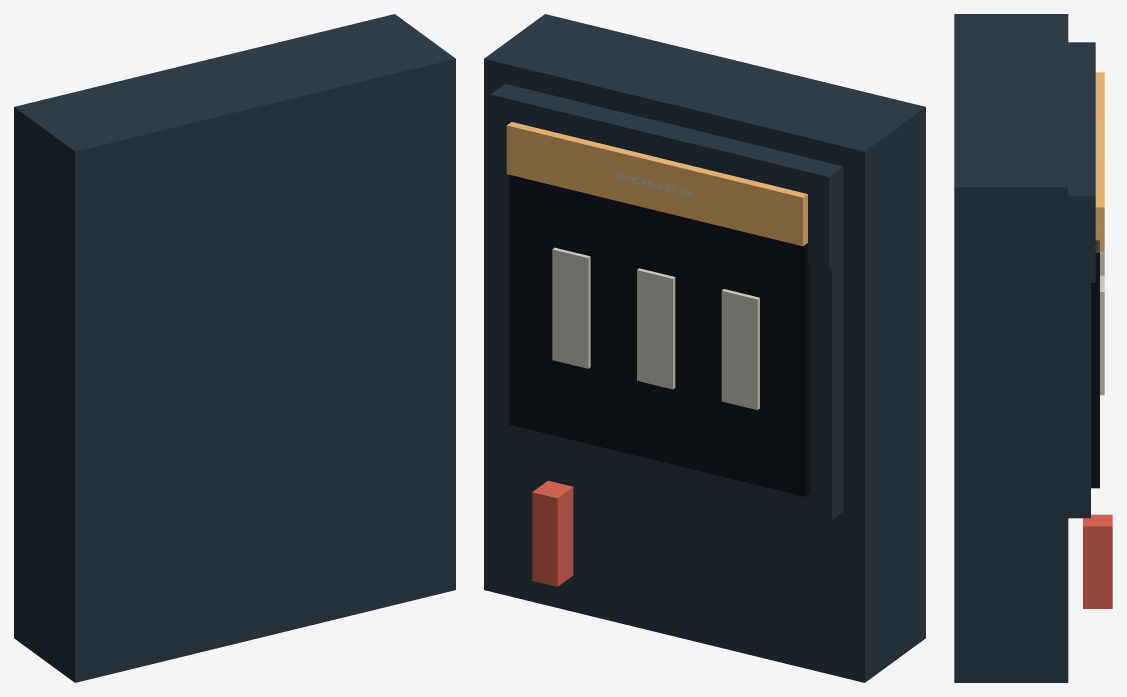
File: horror_fuse_box.obj
3 views of the same model, side by side, from view 1: azimuth 30°, elevation 25°; view 2: azimuth 150°, elevation 25°; view 3: azimuth 270°, elevation 25° (orthographic). The views are drawn at different scales.
Parts seen in each view (by area): view 1: Housing; view 2: Housing, FusesFace, FusesFrame, WarningFrame, WarningFace, Fuse0.4, Fuse0, Fuse-0.4, Lever; view 3: Housing, FusesFrame, WarningFrame, Lever, FusesFace, WarningFace, Fuse0.4.
Part boxes in pixels (x1,y1,x2,y2): Housing: (14, 14, 455, 682); Housing: (484, 14, 925, 682); FusesFace: (509, 175, 810, 496); FusesFrame: (493, 188, 843, 520); WarningFrame: (490, 84, 843, 269); WarningFace: (506, 122, 807, 246); Fuse0.4: (552, 247, 590, 368); Fuse0: (637, 268, 675, 389); Fuse-0.4: (721, 289, 759, 409); Lever: (532, 480, 573, 586); Housing: (954, 14, 1068, 682); FusesFrame: (1068, 229, 1090, 518); WarningFrame: (1068, 42, 1095, 282); Lever: (1083, 514, 1112, 608); FusesFace: (1091, 240, 1099, 488); WarningFace: (1095, 72, 1104, 252); Fuse0.4: (1100, 275, 1104, 395).
Size of the model in its own units: 1.8 by 2.4 by 0.695.
9 materials, 1 textured.
